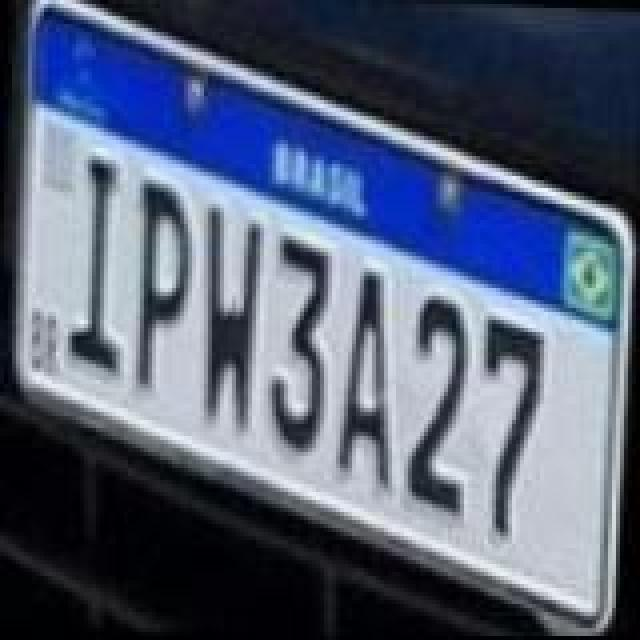2: (408, 296, 480, 520)
3: (268, 232, 336, 452)
7: (472, 318, 552, 542)
A: (338, 266, 406, 490)
I: (68, 154, 136, 374)
P: (132, 178, 200, 394)
W: (192, 202, 268, 430)
